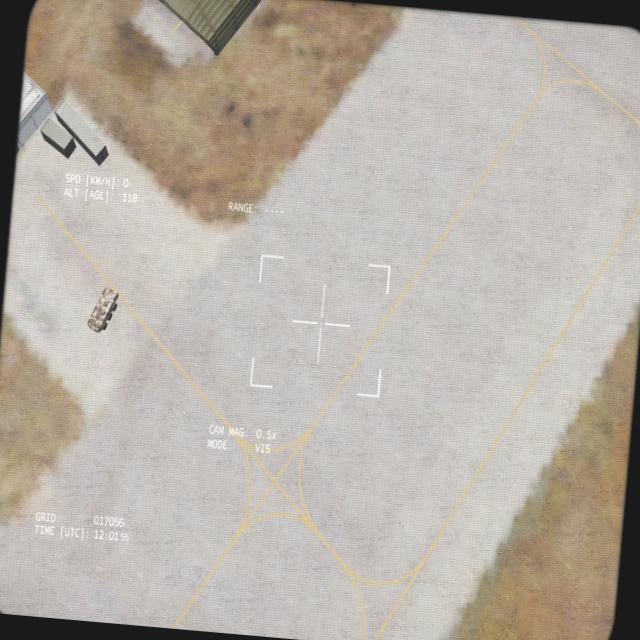apc: (85, 284, 118, 334)
